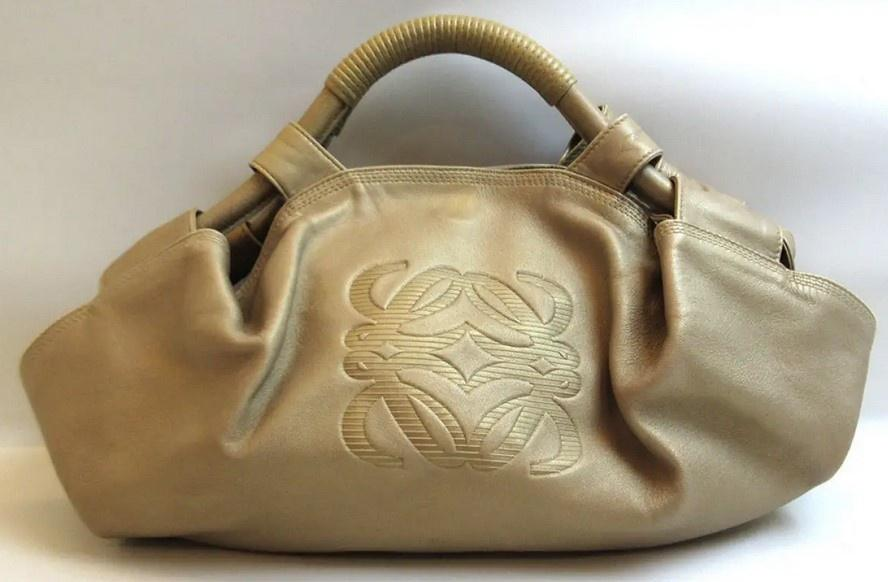LOEWE: (332, 246, 599, 479)
